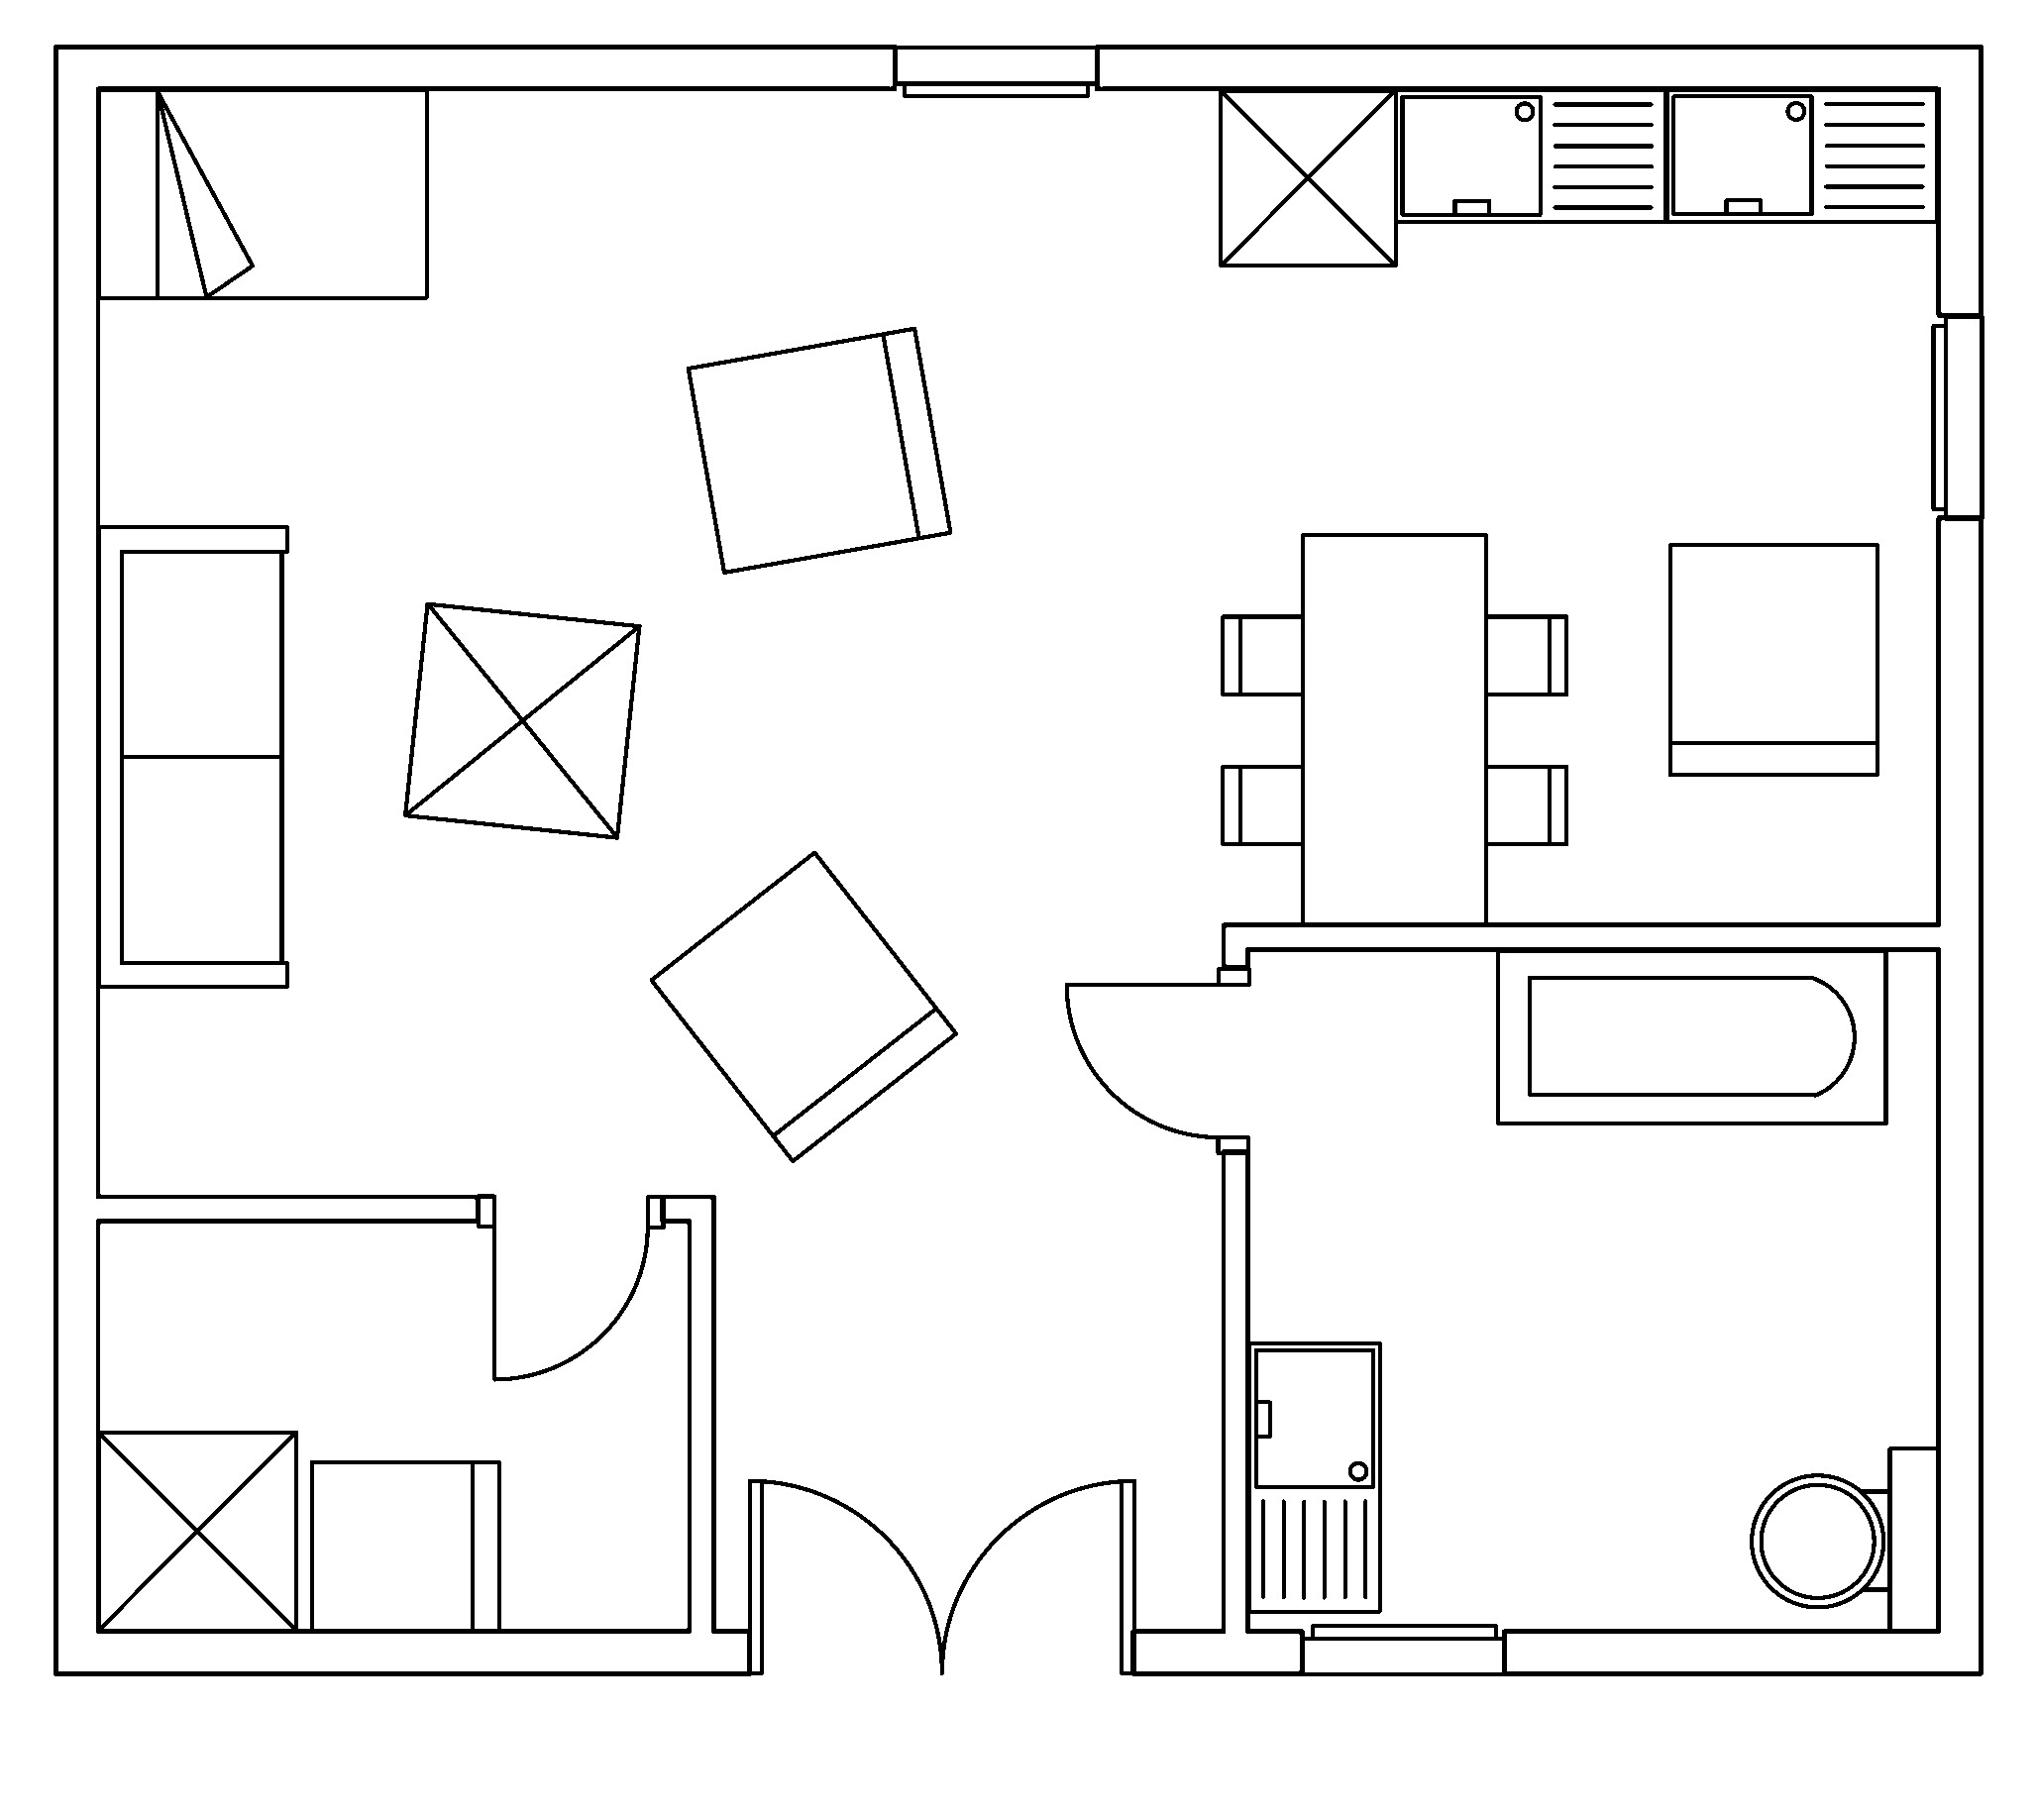bed: (95, 86, 428, 300)
coffee_table: (402, 601, 643, 840), (95, 1428, 299, 1632), (1217, 86, 1398, 267)
dining_table: (1219, 531, 1568, 926)
large_sink: (1749, 1444, 1940, 1632)
large_sofa: (95, 524, 290, 989)
sink: (1663, 86, 1940, 223), (1245, 1339, 1382, 1614), (1393, 86, 1668, 223)
small_sofa: (646, 849, 959, 1163), (685, 325, 954, 574), (1666, 541, 1879, 776), (307, 1458, 500, 1632)
tub: (1494, 947, 1888, 1126)
